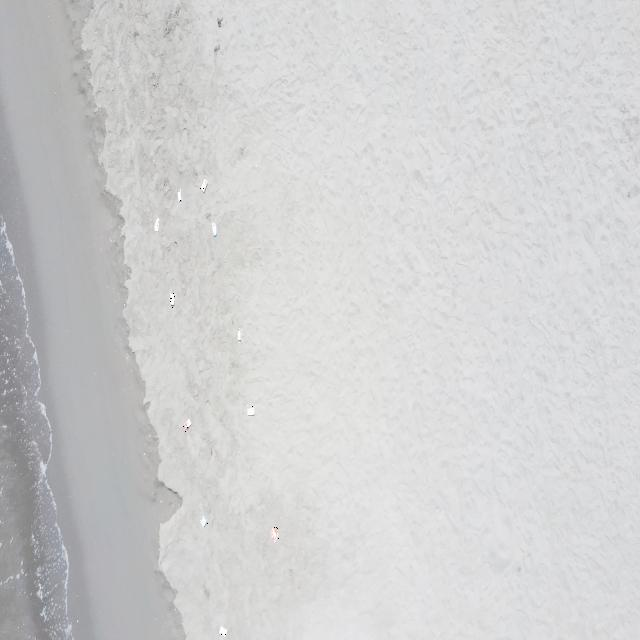Garbage: (181, 420, 191, 432), (271, 526, 278, 542), (168, 292, 175, 307), (200, 180, 207, 192), (200, 515, 207, 527), (154, 216, 159, 231), (247, 404, 253, 415), (219, 626, 226, 635), (212, 221, 216, 236), (236, 327, 240, 340), (213, 44, 220, 51), (176, 188, 180, 200), (216, 18, 221, 27)
